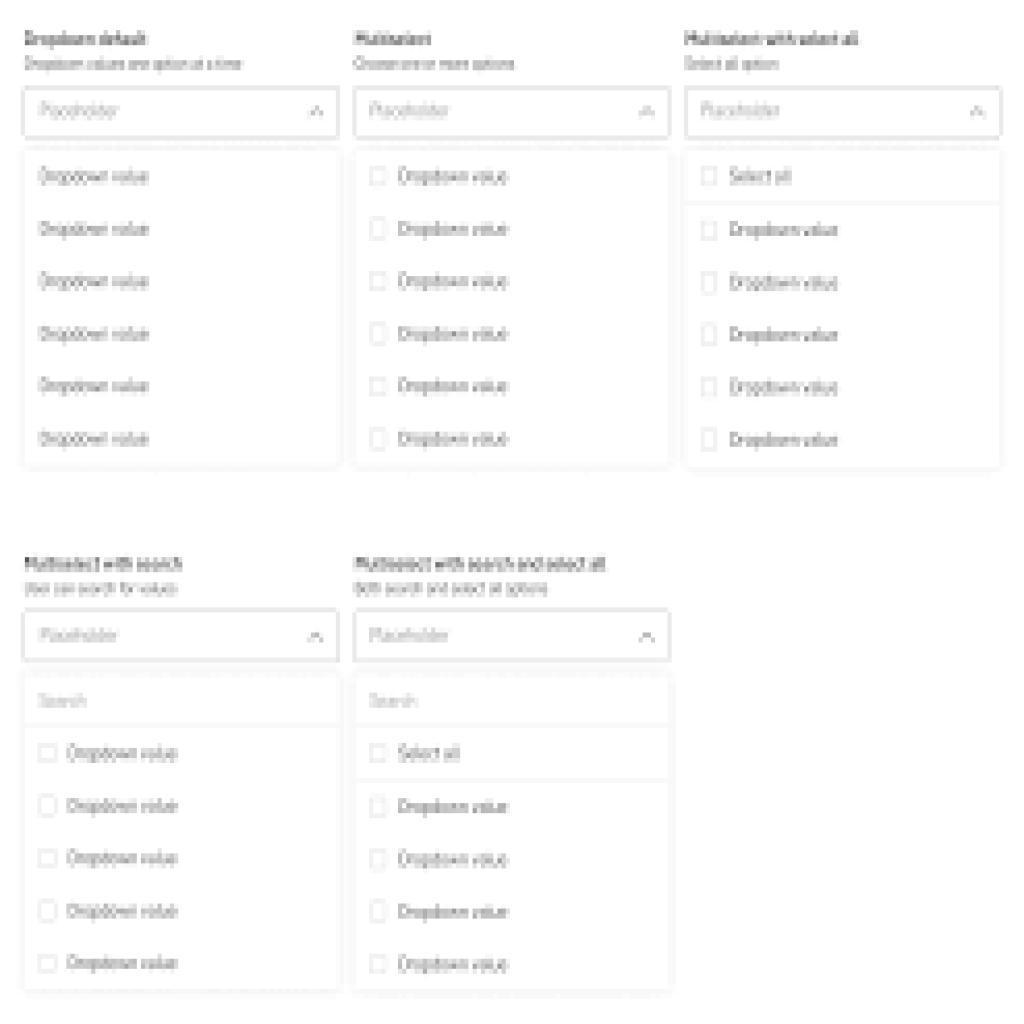checkbox: (38, 794, 60, 821), (368, 898, 390, 925), (38, 899, 59, 925), (369, 847, 389, 874), (700, 426, 719, 454), (38, 847, 60, 871), (369, 427, 390, 452), (370, 795, 390, 820), (370, 324, 389, 350), (38, 744, 60, 766), (38, 952, 59, 975), (369, 375, 389, 399), (700, 270, 719, 295), (700, 221, 721, 243), (700, 375, 719, 399), (701, 323, 719, 348), (370, 744, 391, 765), (700, 166, 720, 188), (370, 953, 388, 977), (370, 216, 388, 239), (372, 166, 390, 187), (371, 271, 387, 294)
dropdown: (21, 83, 341, 145), (22, 606, 341, 663), (355, 610, 670, 667), (687, 87, 1003, 143), (354, 85, 672, 139)
